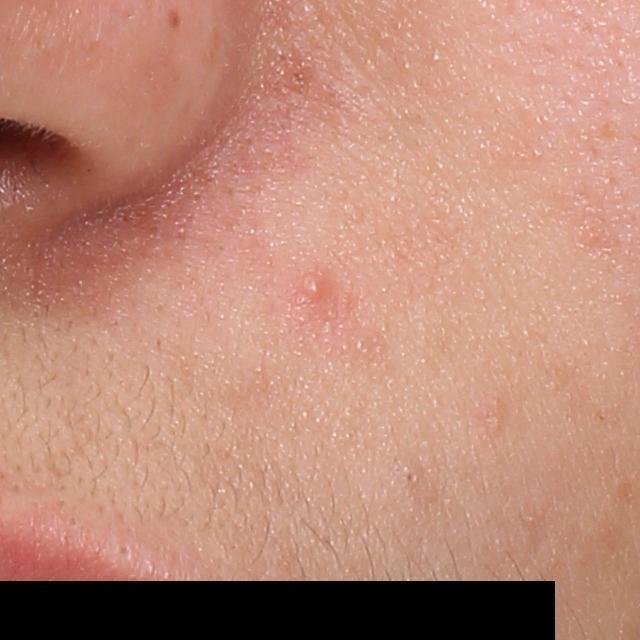comedo: (399, 464, 426, 490)
nevus: (166, 12, 184, 31)
